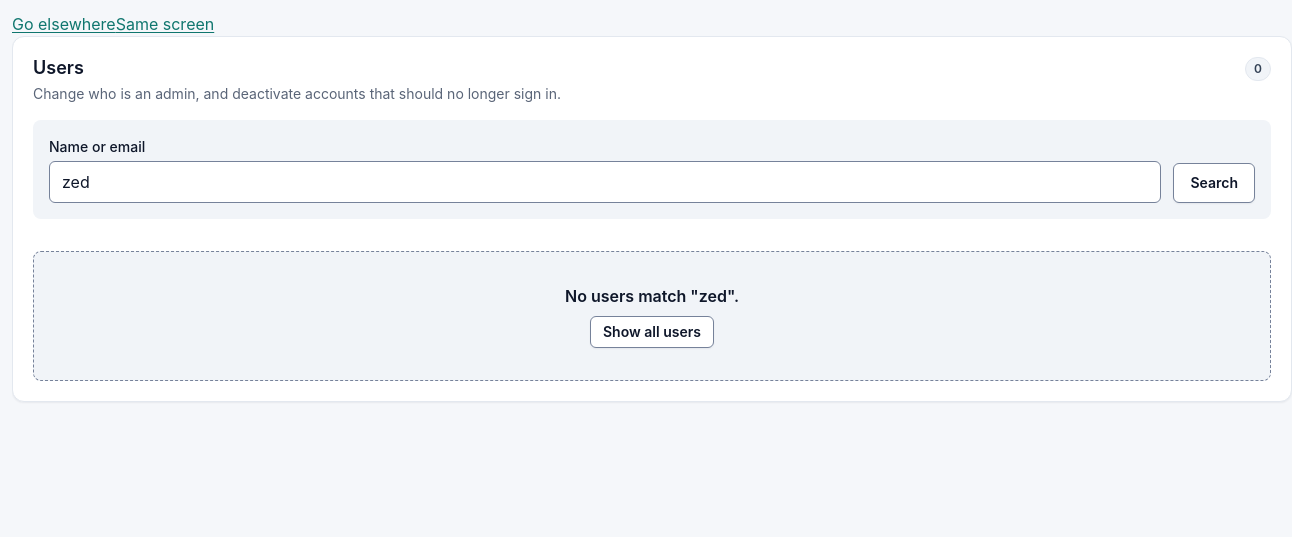
Test case: AdminUsersPage › says when nothing matches, and can show everyone again
Expected: the text "No users match \"zed\"." is shown, [565,284,739,308]
Click the button "Show all users" at (652, 332), box [590,316,714,348]
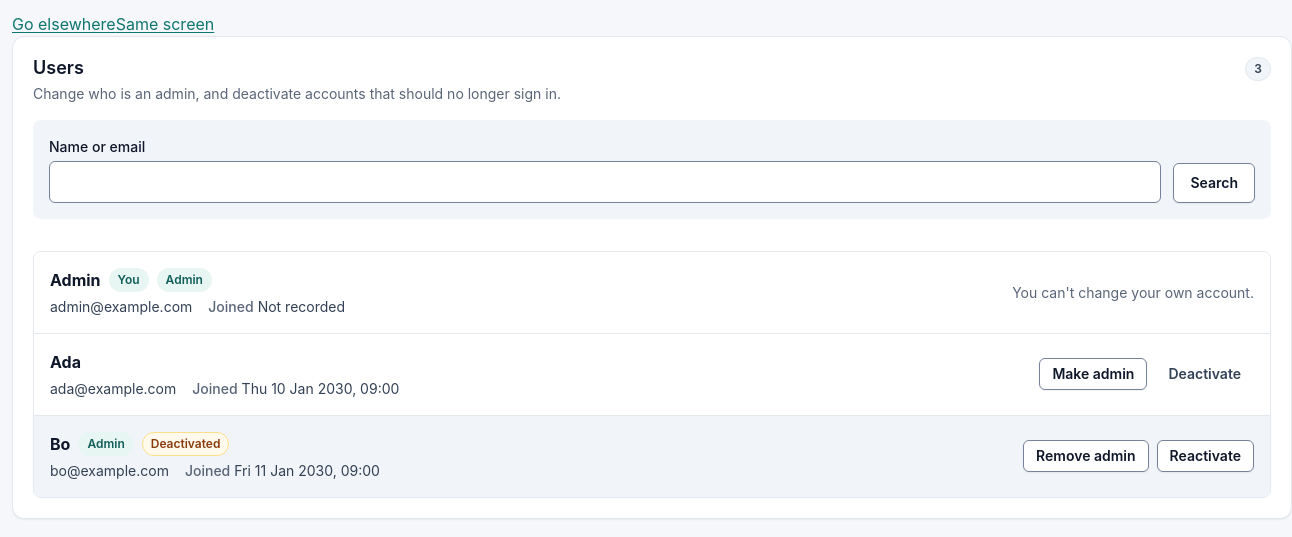
Expected: the list item "Ada" is shown, [50,352,81,372]
